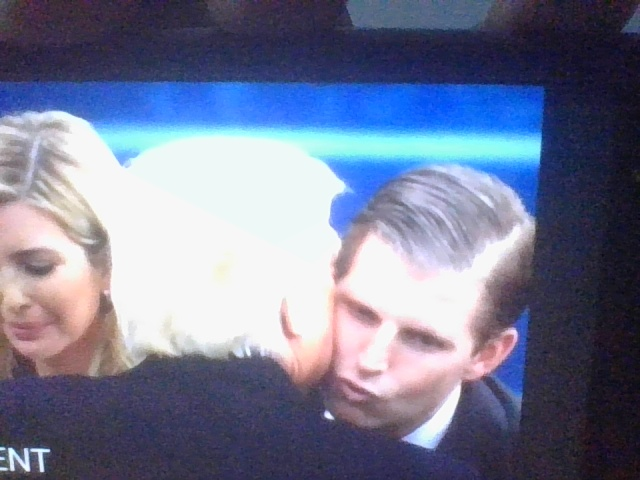fake: (311, 175, 494, 435)
